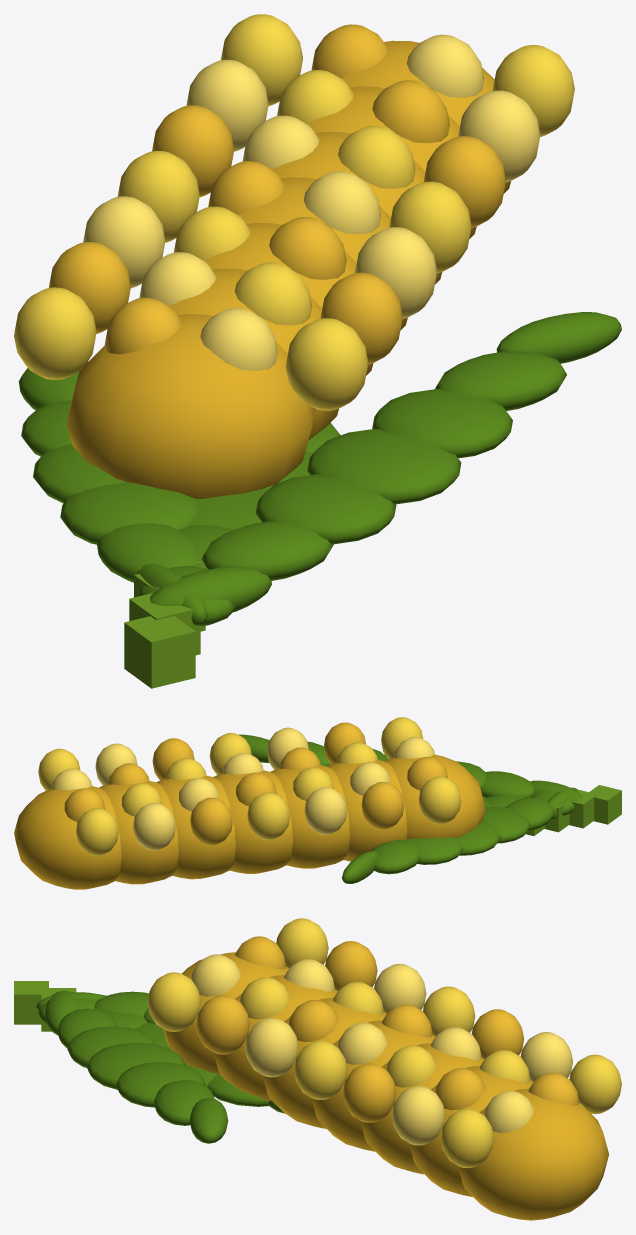
The model's file is CMU3DCornCob.glb.
3 views of the same model, one above another, from view 1: azimuth 30°, elevation 25°; view 2: azimuth 150°, elevation 25°; view 3: azimuth 270°, elevation 25° (orthographic). The views are drawn at different scales.
Visible parts, largest first — view 1: individual corn kernel (×28), corn green husk (×15), corn cob core (×7), corn stalk (×2); view 2: individual corn kernel (×28), corn cob core (×7), corn green husk (×14), corn stalk (×3); view 3: individual corn kernel (×28), corn cob core (×7), corn green husk (×11), corn stalk.
Boxes of the visible parts, x1,y1,x2,y2 form: individual corn kernel (×28): [14, 14, 574, 410]; corn green husk (×15): [18, 312, 621, 626]; corn cob core (×7): [66, 40, 510, 498]; corn stalk (×2): [124, 593, 200, 688]; individual corn kernel (×28): [38, 717, 461, 855]; corn cob core (×7): [14, 754, 485, 889]; corn green husk (×14): [238, 734, 582, 883]; corn stalk (×3): [544, 785, 621, 832]; individual corn kernel (×28): [147, 918, 621, 1168]; corn cob core (×7): [163, 952, 608, 1220]; corn green husk (×11): [45, 990, 268, 1143]; corn stalk: [14, 981, 48, 1024].
Size of the model in its own units: 0.47 by 0.118 by 0.4997.
